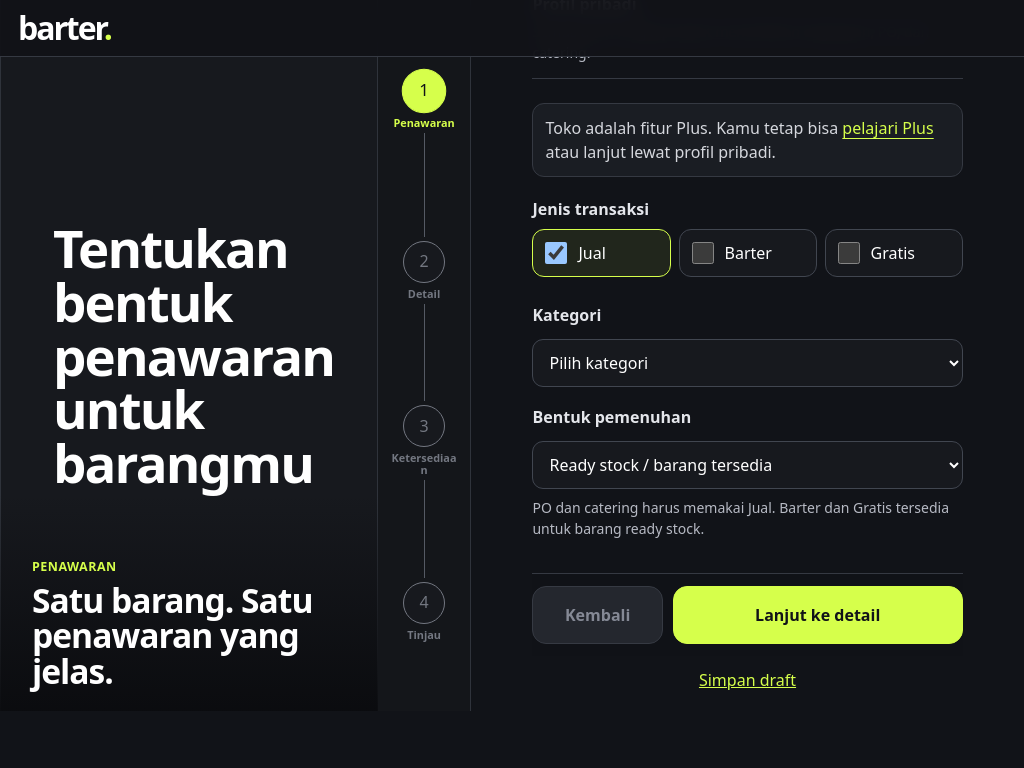
Test: listing editor › saves an incomplete draft through the server without claiming publication
(page scrolled)
What coordinates should you click on to do the following:
click the button "Simpan draft"
I would click on:
 (748, 680)
Its box is [688, 656, 807, 704].
(page scrolled)
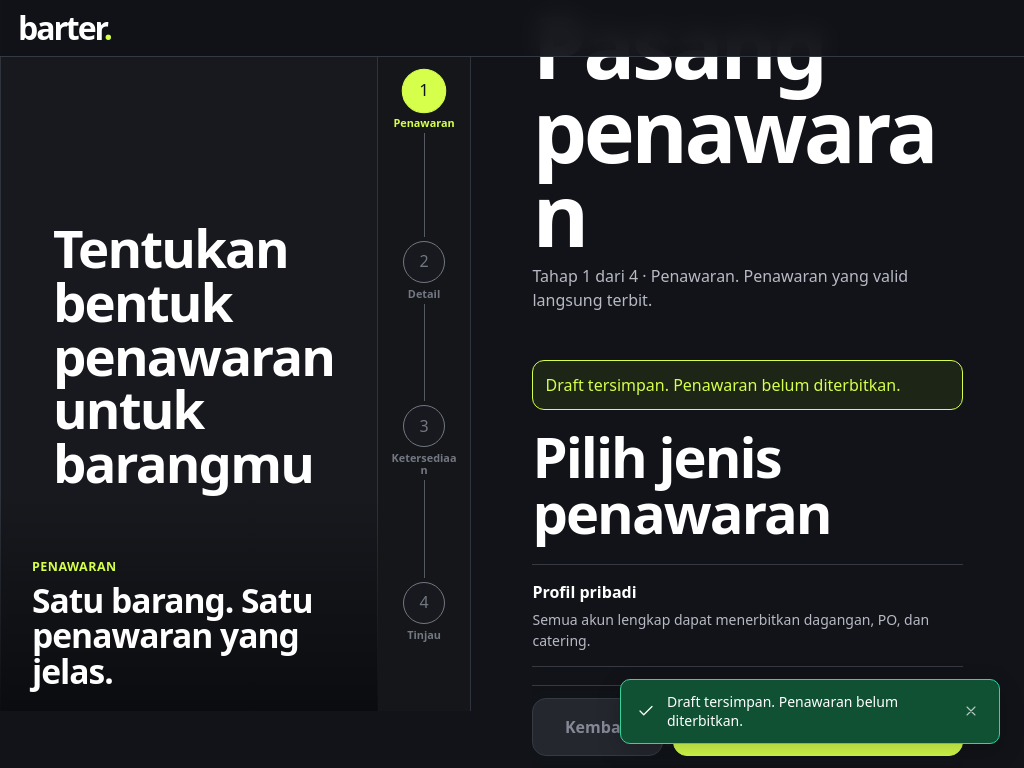
Result: the message shows "Draft tersimpan" at [546, 374, 900, 396]
